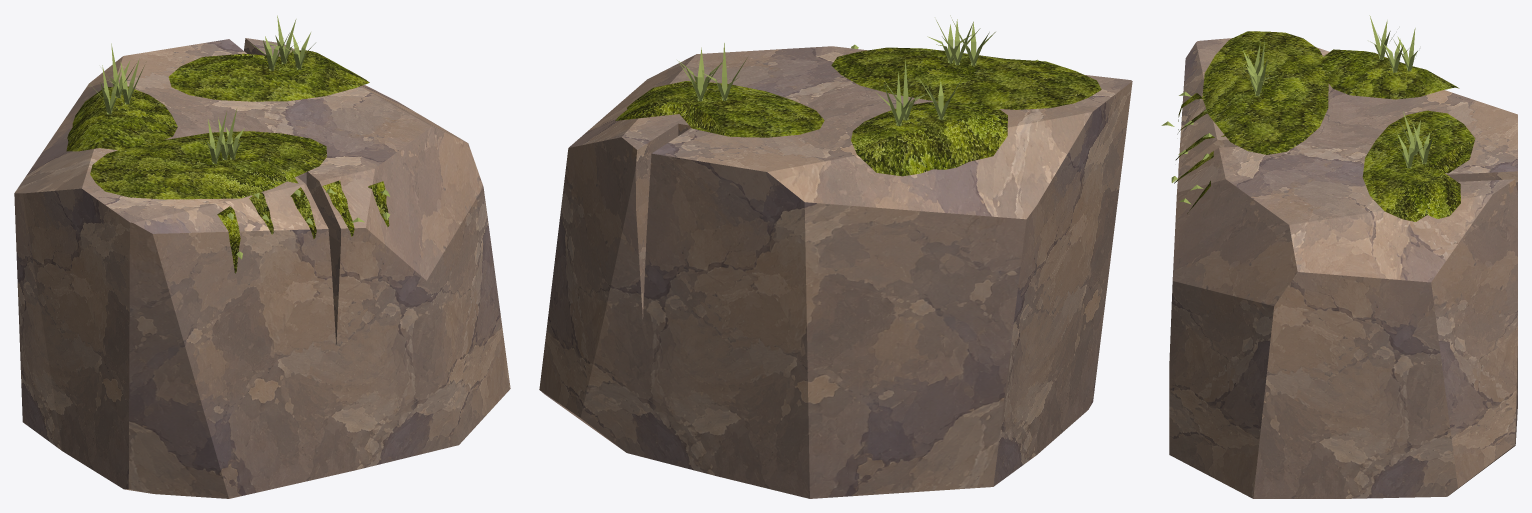
The model's file is boulder.glb.
The picture shows the model from 3 angles, left to right: view 1: azimuth 30°, elevation 25°; view 2: azimuth 150°, elevation 25°; view 3: azimuth 270°, elevation 25°; orthographic projection. The views are drawn at different scales.
Parts seen in each view (by area): view 1: boulder__stone, boulder__moss, boulder__plants; view 2: boulder__stone, boulder__moss, boulder__plants; view 3: boulder__stone, boulder__moss, boulder__plants.
Part boxes in pixels (x1,y1,x2,y2): boulder__stone: [14, 38, 510, 498]; boulder__moss: [66, 50, 389, 273]; boulder__plants: [90, 15, 390, 259]; boulder__stone: [539, 46, 1132, 498]; boulder__moss: [615, 47, 1101, 176]; boulder__plants: [677, 15, 1038, 126]; boulder__stone: [1169, 38, 1517, 498]; boulder__moss: [1174, 31, 1475, 221]; boulder__plants: [1161, 15, 1437, 204].
Bounding box in the file's own units: 2.41 × 1.93 × 1.89.
Materials: 3 (2 with a texture image).
